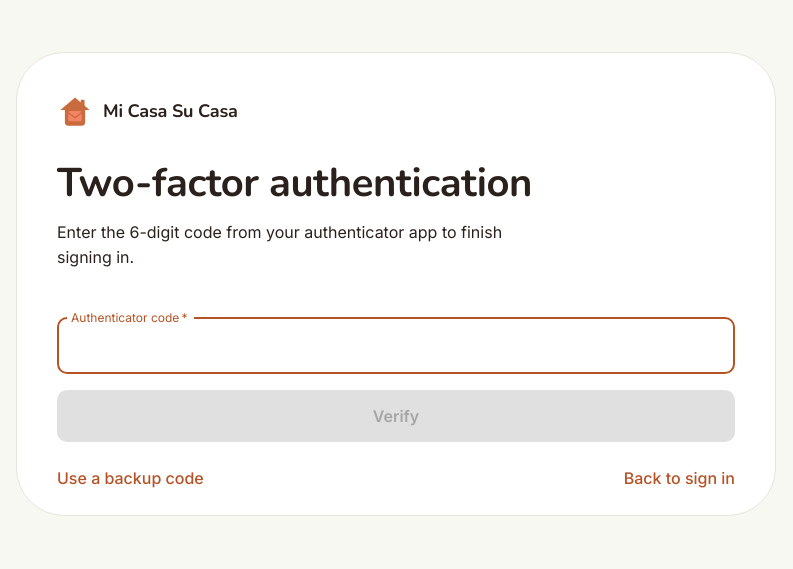
Test: TwoFactorPage › shows the server's message when the code is refused
In the field labelled "Authenticator code *": x=396, y=346 [57, 318, 735, 374], type "000000"
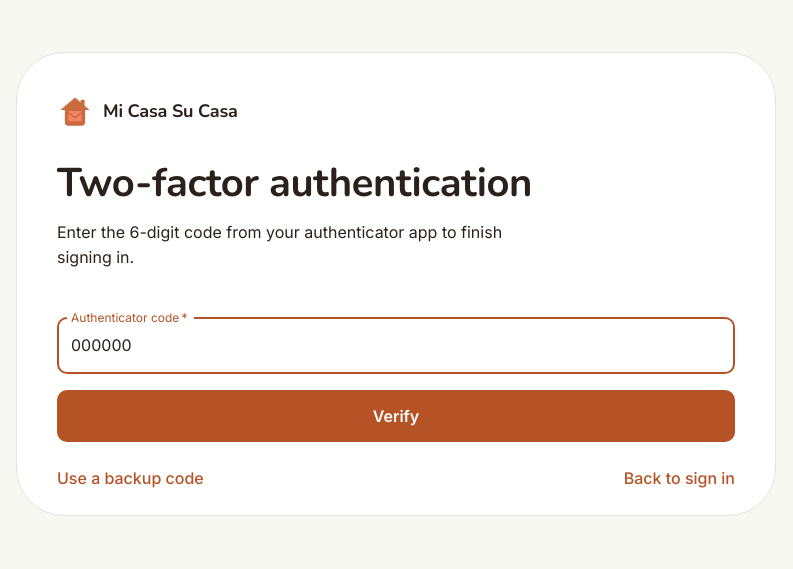
Click the button "Verify": x=396, y=416 [57, 390, 735, 442]
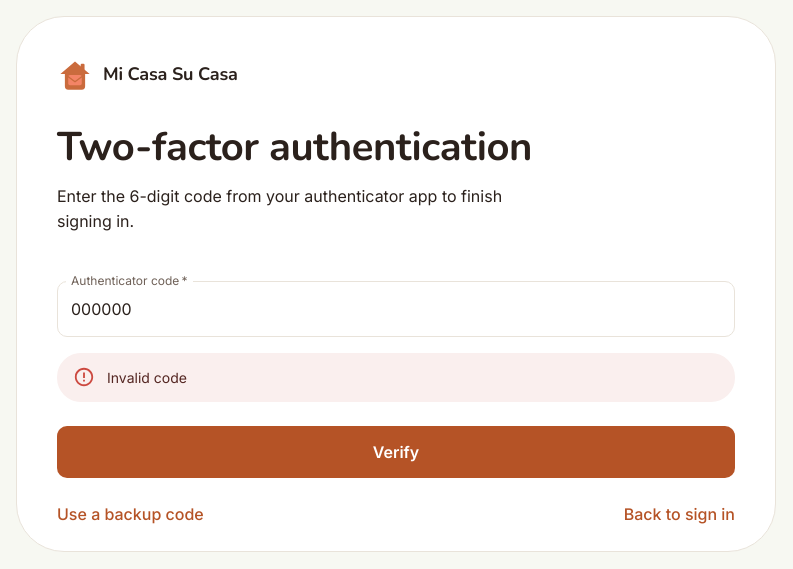
Check: the message reads "Invalid code", box [107, 369, 187, 386]
